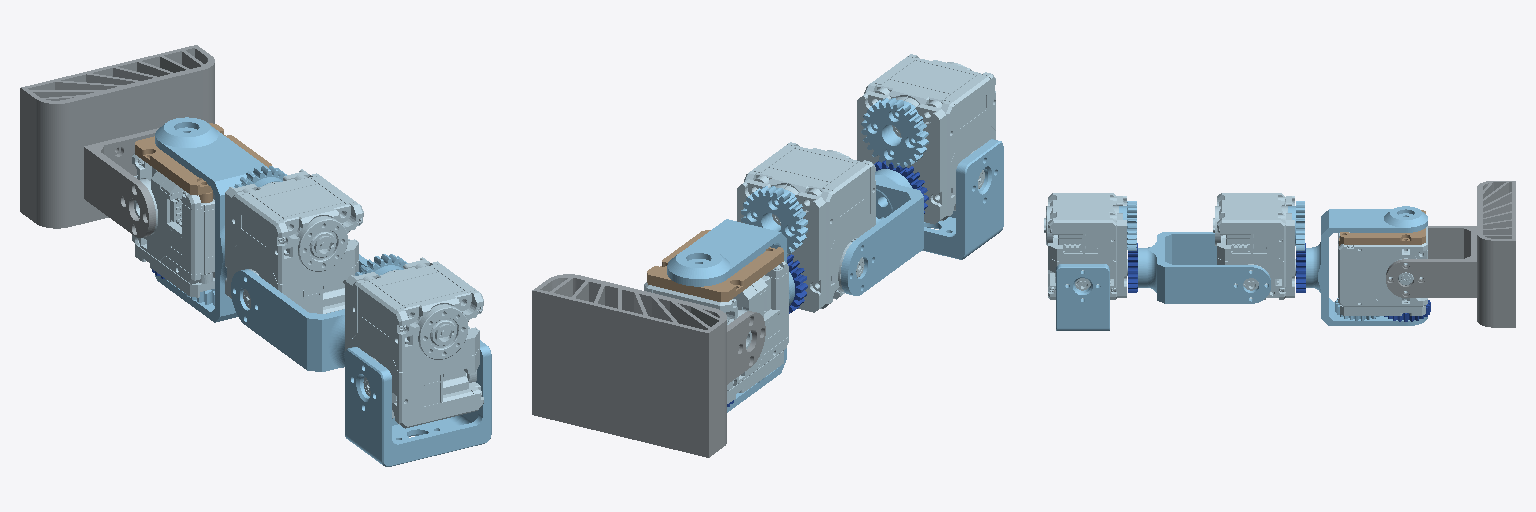
The robot description file, URDF, robot "left_arm_umi":
<?xml version="1.0" ?><robot name="left_arm_umi">  
  <link name="sho_pitch_link">    
    <visual>      
      <origin xyz="0 0 0" rpy="0 -0 0"/>      
      <geometry>        
        <mesh filename="package:///meshes/left_sho_pitch_link_visual.stl"/>        
      </geometry>      
      <material name="sho_pitch_link_material">        
        <color rgba="0.61568627450980395466 0.81176470588235294379 0.92941176470588227065 1.0"/>        
      </material>      
    </visual>    
    <collision>      
      <origin xyz="0 0 0" rpy="0 -0 0"/>      
      <geometry>        
        <mesh filename="package:///meshes/left_sho_pitch_link_collision.stl"/>        
      </geometry>      
    </collision>    
    <inertial>      
      <origin xyz="-1.025903438159899119e-18 -2.1966078074444220184e-18 0.012913250798677602602" rpy="0 0 0"/>      
      <mass value="0.0085999999999999982708"/>      
      <inertia ixx="1.8365636406635814379e-06" ixy="0" ixz="0" iyy="4.0110869076839152165e-06" iyz="0" izz="3.5160516450492493809e-06"/>      
    </inertial>    
  </link>  

  <link name="2xl430_gears">    
    <visual>      
      <origin xyz="0 0 0" rpy="0 -0 0"/>      
      <geometry>        
        <mesh filename="package:///meshes/left_2xl430_gears_visual.stl"/>        
      </geometry>      
      <material name="2xl430_gears_material">        
        <color rgba="0.75914767920569214965 0.85560384745670925444 0.90519468321360607721 1.0"/>        
      </material>      
    </visual>    
    <collision>      
      <origin xyz="0 0 0" rpy="0 -0 0"/>      
      <geometry>        
        <mesh filename="package:///meshes/left_2xl430_gears_collision.stl"/>        
      </geometry>      
    </collision>    
    <inertial>      
      <origin xyz="-0.011592905737980642444 -0.0024238553642583816373 -0.018551095523802015735" rpy="0 0 0"/>      
      <mass value="0.11800003674524911501"/>      
      <inertia ixx="2.7511021050428206944e-05" ixy="9.0043904315036704004e-07" ixz="-2.3349710124172453411e-08" iyy="3.2796197843345624423e-05" iyz="-6.5715119654599577247e-07" izz="3.5775739835744996948e-05"/>      
    </inertial>    
  </link>  

  <link name="spur_1m_24t_drive">    
    <visual>      
      <origin xyz="0 0 0" rpy="0 -0 0"/>      
      <geometry>        
        <mesh filename="package:///meshes/left_spur_1m_24t_drive_visual.stl"/>        
      </geometry>      
      <material name="spur_1m_24t_drive_material">        
        <color rgba="0.61568627450980395466 0.81176470588235294379 0.92941176470588238168 1.0"/>        
      </material>      
    </visual>    
    <collision>      
      <origin xyz="0 0 0" rpy="0 -0 0"/>      
      <geometry>        
        <mesh filename="package:///meshes/left_spur_1m_24t_drive_collision.stl"/>        
      </geometry>      
    </collision>    
    <inertial>      
      <origin xyz="3.0395421551447426547e-15 -3.3912620813973872492e-16 0.0048096451474093065287" rpy="0 0 0"/>      
      <mass value="0.0031999999999999997197"/>      
      <inertia ixx="1.4097598887016953379e-07" ixy="1.5562823114943523235e-15" ixz="7.4273784759770902112e-37" iyy="1.4097598803635996198e-07" iyz="7.8038995636436382948e-37" izz="2.4107776386988835496e-07"/>      
    </inertial>    
  </link>  

  <joint name="left_sho_yaw_drive" type="revolute">    
    <origin xyz="-0.024000000716142534662 -0.019000000152456227726 -0.019000000152442717699" rpy="1.5707963267945506125 -5.5729871745090160275e-14 6.2805146429461445464e-14"/>    
    <parent link="2xl430_gears"/>    
    <child link="spur_1m_24t_drive"/>    
    <axis xyz="0 0 1"/>    
    <limit effort="1" velocity="20" lower="-2.6179938779914944114" upper="2.6179938779914944114"/>    
    <joint_properties friction="0.0"/>    
  </joint>  

  <link name="spur_1m_24t_driven">    
    <visual>      
      <origin xyz="0 0 0" rpy="0 -0 0"/>      
      <geometry>        
        <mesh filename="package:///meshes/left_spur_1m_24t_driven_visual.stl"/>        
      </geometry>      
      <material name="spur_1m_24t_driven_material">        
        <color rgba="0.23137254901960788156 0.38039215686274502337 0.7058823529411765163 1.0"/>        
      </material>      
    </visual>    
    <collision>      
      <origin xyz="0 0 0" rpy="0 -0 0"/>      
      <geometry>        
        <mesh filename="package:///meshes/left_spur_1m_24t_driven_collision.stl"/>        
      </geometry>      
    </collision>    
    <inertial>      
      <origin xyz="-2.6903043908340867984e-18 -1.688384205958136519e-15 -0.00097237500038395777158" rpy="0 0 0"/>      
      <mass value="0.0026999999999999997093"/>      
      <inertia ixx="1.2202334915684080498e-07" ixy="1.3837295890494949211e-37" ixz="-1.0447421496749939075e-36" iyy="1.2202334915684064616e-07" iyz="3.3220397498769138301e-37" izz="2.3180293204341252239e-07"/>      
    </inertial>    
  </link>  

  <link name="sho_yaw_link">    
    <visual>      
      <origin xyz="0 0 0" rpy="0 -0 0"/>      
      <geometry>        
        <mesh filename="package:///meshes/left_sho_yaw_link_visual.stl"/>        
      </geometry>      
      <material name="sho_yaw_link_material">        
        <color rgba="0.61568627450980395466 0.81176470588235294379 0.92941176470588238168 1.0"/>        
      </material>      
    </visual>    
    <collision>      
      <origin xyz="0 0 0" rpy="0 -0 0"/>      
      <geometry>        
        <mesh filename="package:///meshes/left_sho_yaw_link_collision.stl"/>        
      </geometry>      
    </collision>    
    <inertial>      
      <origin xyz="-4.7730210054629770351e-18 2.6069328434163573568e-18 -0.024649285094360089132" rpy="0 0 0"/>      
      <mass value="0.014500000000000007674"/>      
      <inertia ixx="9.2365904614004439553e-06" ixy="3.5862833440690451918e-13" ixz="-8.2397007242855601464e-43" iyy="5.8163826335078791714e-06" iyz="-5.4352775587714288989e-35" izz="4.5074356741562122031e-06"/>      
    </inertial>    
  </link>  

  <link name="2xl430_gears_2">    
    <visual>      
      <origin xyz="0 0 0" rpy="0 -0 0"/>      
      <geometry>        
        <mesh filename="package:///meshes/left_2xl430_gears_2_visual.stl"/>        
      </geometry>      
      <material name="2xl430_gears_2_material">        
        <color rgba="0.75914767920569214965 0.85560384745670925444 0.90519468321360607721 1.0"/>        
      </material>      
    </visual>    
    <collision>      
      <origin xyz="0 0 0" rpy="0 -0 0"/>      
      <geometry>        
        <mesh filename="package:///meshes/left_2xl430_gears_2_collision.stl"/>        
      </geometry>      
    </collision>    
    <inertial>      
      <origin xyz="-0.011592905737981091738 -0.0024238553642542742458 -0.018551095523813909" rpy="0 0 0"/>      
      <mass value="0.11800003674524911501"/>      
      <inertia ixx="2.751102105042832214e-05" ixy="9.0043904315329650349e-07" ixz="-2.3349710125436329138e-08" iyy="3.2796197843348145193e-05" iyz="-6.5715119655126410565e-07" izz="3.5775739835745051158e-05"/>      
    </inertial>    
  </link>  

  <link name="spur_1m_24t_drive_2">    
    <visual>      
      <origin xyz="0 0 0" rpy="0 -0 0"/>      
      <geometry>        
        <mesh filename="package:///meshes/left_spur_1m_24t_drive_2_visual.stl"/>        
      </geometry>      
      <material name="spur_1m_24t_drive_2_material">        
        <color rgba="0.61568627450980395466 0.81176470588235294379 0.92941176470588238168 1.0"/>        
      </material>      
    </visual>    
    <collision>      
      <origin xyz="0 0 0" rpy="0 -0 0"/>      
      <geometry>        
        <mesh filename="package:///meshes/left_spur_1m_24t_drive_2_collision.stl"/>        
      </geometry>      
    </collision>    
    <inertial>      
      <origin xyz="3.0395421551447426547e-15 -3.3912620811388947869e-16 0.0048096451474092995898" rpy="0 0 0"/>      
      <mass value="0.0031999999999999997197"/>      
      <inertia ixx="1.4097598887016953379e-07" ixy="1.5562823102285579479e-15" ixz="2.9661020669666376683e-36" iyy="1.4097598803635998845e-07" iyz="9.1368612700525381613e-36" izz="2.4107776386988835496e-07"/>      
    </inertial>    
  </link>  

  <joint name="left_elbow_yaw_drive" type="revolute">    
    <origin xyz="-0.024000000716140806878 -0.019000000152450138846 -0.01900000015246447807" rpy="1.5707963267949478503 -2.5802640142449200815e-13 5.2180482157376444099e-14"/>    
    <parent link="2xl430_gears_2"/>    
    <child link="spur_1m_24t_drive_2"/>    
    <axis xyz="0 0 1"/>    
    <limit effort="1" velocity="20" lower="-2.6179938779914944114" upper="2.6179938779914944114"/>    
    <joint_properties friction="0.0"/>    
  </joint>  

  <link name="spur_1m_24t_driven_2">    
    <visual>      
      <origin xyz="0 0 0" rpy="0 -0 0"/>      
      <geometry>        
        <mesh filename="package:///meshes/left_spur_1m_24t_driven_2_visual.stl"/>        
      </geometry>      
      <material name="spur_1m_24t_driven_2_material">        
        <color rgba="0.23137254901960788156 0.38039215686274502337 0.7058823529411765163 1.0"/>        
      </material>      
    </visual>    
    <collision>      
      <origin xyz="0 0 0" rpy="0 -0 0"/>      
      <geometry>        
        <mesh filename="package:///meshes/left_spur_1m_24t_driven_2_collision.stl"/>        
      </geometry>      
    </collision>    
    <inertial>      
      <origin xyz="-2.6903043908350131707e-18 -1.685153565132015999e-15 -0.00097237500038395083268" rpy="0 0 0"/>      
      <mass value="0.0026999999999999997093"/>      
      <inertia ixx="1.2202334915684080498e-07" ixy="-5.3426136268858280334e-65" ixz="-2.7609150325300431337e-36" iyy="1.2202334915684064616e-07" iyz="5.8515286657488347587e-36" izz="2.3180293204341252239e-07"/>      
    </inertial>    
  </link>  

  <link name="elb_yaw_link">    
    <visual>      
      <origin xyz="0 0 0" rpy="0 -0 0"/>      
      <geometry>        
        <mesh filename="package:///meshes/left_elb_yaw_link_visual.stl"/>        
      </geometry>      
      <material name="elb_yaw_link_material">        
        <color rgba="0.61568627450980395466 0.81176470588235294379 0.92941176470588227065 1.0"/>        
      </material>      
    </visual>    
    <collision>      
      <origin xyz="0 0 0" rpy="0 -0 0"/>      
      <geometry>        
        <mesh filename="package:///meshes/left_elb_yaw_link_collision.stl"/>        
      </geometry>      
    </collision>    
    <inertial>      
      <origin xyz="5.3127688027774929136e-08 0.0019833638641961618201 -0.023416643551549959357" rpy="0 0 0"/>      
      <mass value="0.017500000000000005135"/>      
      <inertia ixx="1.4134344903109199776e-05" ixy="1.6945783922006120707e-12" ixz="-1.1286398721833143996e-11" iyy="6.6435900776211374285e-06" iyz="1.0545227077253055462e-06" izz="8.9925290757999027595e-06"/>      
    </inertial>    
  </link>  

  <link name="spur_1m_24t_driven_3">    
    <visual>      
      <origin xyz="0 0 0" rpy="0 -0 0"/>      
      <geometry>        
        <mesh filename="package:///meshes/left_spur_1m_24t_driven_3_visual.stl"/>        
      </geometry>      
      <material name="spur_1m_24t_driven_3_material">        
        <color rgba="0.23137254901960788156 0.38039215686274502337 0.7058823529411765163 1.0"/>        
      </material>      
    </visual>    
    <collision>      
      <origin xyz="0 0 0" rpy="0 -0 0"/>      
      <geometry>        
        <mesh filename="package:///meshes/left_spur_1m_24t_driven_3_collision.stl"/>        
      </geometry>      
    </collision>    
    <inertial>      
      <origin xyz="-2.6903043908334539378e-18 -1.6883842059581396744e-15 -0.0025723750003839550293" rpy="0 0 0"/>      
      <mass value="0.0026999999999999997093"/>      
      <inertia ixx="1.2202334915684080498e-07" ixy="1.650838217124924475e-37" ixz="5.8515286657488347587e-36" iyy="1.2202334915684064616e-07" iyz="0" izz="2.3180293204341252239e-07"/>      
    </inertial>    
  </link>  

  <link name="2xl430_gears_3">    
    <visual>      
      <origin xyz="0 0 0" rpy="0 -0 0"/>      
      <geometry>        
        <mesh filename="package:///meshes/left_2xl430_gears_3_visual.stl"/>        
      </geometry>      
      <material name="2xl430_gears_3_material">        
        <color rgba="0.75914767920569214965 0.85560384745670925444 0.90519468321360607721 1.0"/>        
      </material>      
    </visual>    
    <collision>      
      <origin xyz="0 0 0" rpy="0 -0 0"/>      
      <geometry>        
        <mesh filename="package:///meshes/left_2xl430_gears_3_collision.stl"/>        
      </geometry>      
    </collision>    
    <inertial>      
      <origin xyz="0.00044890447619909743101 0.011592905379898219356 -0.024576144788197168412" rpy="0 0 0"/>      
      <mass value="0.11800003674524911501"/>      
      <inertia ixx="3.5775739835742089931e-05" ixy="2.3349710123834755271e-08" ixz="6.5715119654965728415e-07" iyy="2.7511021050427807144e-05" iyz="9.0043904315220340747e-07" izz="3.2796197843345726067e-05"/>      
    </inertial>    
  </link>  

  <link name="spur_1m_24t_drive_3">    
    <visual>      
      <origin xyz="0 0 0" rpy="0 -0 0"/>      
      <geometry>        
        <mesh filename="package:///meshes/left_spur_1m_24t_drive_3_visual.stl"/>        
      </geometry>      
      <material name="spur_1m_24t_drive_3_material">        
        <color rgba="0.61568627450980395466 0.81176470588235294379 0.92941176470588238168 1.0"/>        
      </material>      
    </visual>    
    <collision>      
      <origin xyz="0 0 0" rpy="0 -0 0"/>      
      <geometry>        
        <mesh filename="package:///meshes/left_spur_1m_24t_drive_3_collision.stl"/>        
      </geometry>      
    </collision>    
    <inertial>      
      <origin xyz="3.0326032612408350319e-15 -3.3912620811388928147e-16 0.0048096451474093030592" rpy="0 0 0"/>      
      <mass value="0.0031999999999999997197"/>      
      <inertia ixx="1.4097598887016953379e-07" ixy="1.5562823135372803981e-15" ixz="1.2722418906858421266e-35" iyy="1.4097598803635998845e-07" iyz="4.1397718535750480265e-37" izz="2.4107776386988835496e-07"/>      
    </inertial>    
  </link>  

  <joint name="left_wrist_pitch_drive" type="revolute">    
    <origin xyz="-1.5244492967147879128e-10 0.024000000358059658812 -0.0080000000000056449567" rpy="-3.0533404903795228175e-14 -1.7699329119283895979e-13 -1.5707963267949680564"/>    
    <parent link="2xl430_gears_3"/>    
    <child link="spur_1m_24t_drive_3"/>    
    <axis xyz="0 0 1"/>    
    <limit effort="1" velocity="20" lower="-1.9198621771937625091" upper="1.3962634015954635824"/>    
    <joint_properties friction="0.0"/>    
  </joint>  

  <link name="hand">    
    <visual>      
      <origin xyz="0 0 0" rpy="0 -0 0"/>      
      <geometry>        
        <mesh filename="package:///meshes/left_hand_visual.stl"/>        
      </geometry>      
      <material name="hand_material">        
        <color rgba="0.6414991312980887761 0.67624720774385704836 0.69709605361131787848 1.0"/>        
      </material>      
    </visual>    
    <collision>      
      <origin xyz="0 0 0" rpy="0 -0 0"/>      
      <geometry>        
        <mesh filename="package:///meshes/left_hand_collision.stl"/>        
      </geometry>      
    </collision>    
    <inertial>      
      <origin xyz="0.0037132560743682414481 -0.042135580180293757957 -0.019513129422372377242" rpy="0 0 0"/>      
      <mass value="0.039500000000000000389"/>      
      <inertia ixx="2.4655505305535776886e-05" ixy="6.2292690516533964304e-07" ixz="1.3905202790272152079e-08" iyy="2.5499495709674505013e-05" iyz="-4.0482284361498457642e-08" izz="1.3476712281039049114e-05"/>      
    </inertial>    
  </link>  

  <joint name="left_wrist_roll" type="revolute">    
    <origin xyz="0.019000000000009276829 -3.5808436771311846769e-10 -0.027000000152447547336" rpy="1.2196020852255911422e-29 1.5707963267946087882 0"/>    
    <parent link="2xl430_gears_3"/>    
    <child link="hand"/>    
    <axis xyz="0 0 1"/>    
    <limit effort="1" velocity="20" lower="-1.9198621771937625091" upper="1.3962634015954635824"/>    
    <joint_properties friction="0.0"/>    
  </joint>  

  <link name="wrist_bearing_plate">    
    <visual>      
      <origin xyz="0 0 0" rpy="0 -0 0"/>      
      <geometry>        
        <mesh filename="package:///meshes/left_wrist_bearing_plate_visual.stl"/>        
      </geometry>      
      <material name="wrist_bearing_plate_material">        
        <color rgba="0.71932243125689054875 0.63128434304969727187 0.52422389360984933404 1.0"/>        
      </material>      
    </visual>    
    <collision>      
      <origin xyz="0 0 0" rpy="0 -0 0"/>      
      <geometry>        
        <mesh filename="package:///meshes/left_wrist_bearing_plate_collision.stl"/>        
      </geometry>      
    </collision>    
    <inertial>      
      <origin xyz="-0.0075835583121499931455 -0.015499999999999977338 -0.0018386323705903331437" rpy="0 0 0"/>      
      <mass value="0.0049000367468305557062"/>      
      <inertia ixx="4.970743010915013972e-07" ixy="1.1194558104431275937e-22" ixz="1.8100904820813988926e-08" iyy="7.1268523603538489532e-07" iyz="1.6072883979218723091e-23" izz="1.1919657811600100764e-06"/>      
    </inertial>    
  </link>  

  <joint name="left_wrist_pitch_fixed" type="fixed">    
    <origin xyz="0.015500000000005004566 -1.8207657603852567263e-14 -0.044999999999998596678" rpy="4.0494715863782802008e-14 -2.8209346585231002385e-13 -1.570796326794906328"/>    
    <parent link="2xl430_gears_3"/>    
    <child link="wrist_bearing_plate"/>    
    <axis xyz="0 0 1"/>    
    <limit effort="1" velocity="20"/>    
    <joint_properties friction="0.0"/>    
  </joint>  

  <joint name="left_wrist_pitch_driven" type="revolute">    
    <origin xyz="0 -3.9443045261050590271e-30 -0.0015999999999999972577" rpy="6.0387003530043805309e-16 -4.4981039962148287683e-16 -1.570796326794896558"/>    
    <parent link="spur_1m_24t_driven_3"/>    
    <child link="2xl430_gears_3"/>    
    <axis xyz="0 0 1"/>    
    <limit effort="1" velocity="20" lower="-1.3962634015954635824" upper="1.9198621771937625091"/>    
    <joint_properties friction="0.0"/>    
  </joint>  

  <joint name="left_wrist_roll_fixed" type="fixed">    
    <origin xyz="1.5777218104420236108e-30 -0.025300000000000006511 -0.05200000000000001843" rpy="1.5707963267949043296 -1.5707963267948885644 0"/>    
    <parent link="elb_yaw_link"/>    
    <child link="spur_1m_24t_driven_3"/>    
    <axis xyz="0 0 1"/>    
    <limit effort="1" velocity="20"/>    
    <joint_properties friction="0.0"/>    
  </joint>  

  <joint name="left_elbow_yaw_fixed" type="fixed">    
    <origin xyz="-1.5777218104420236108e-30 0 0.0016000000000000041966" rpy="-3.1415926535897873428 3.0591810185765374017e-29 0"/>    
    <parent link="spur_1m_24t_driven_2"/>    
    <child link="elb_yaw_link"/>    
    <axis xyz="0 0 1"/>    
    <limit effort="1" velocity="20"/>    
    <joint_properties friction="0.0"/>    
  </joint>  

  <joint name="left_elbow_yaw_driven" type="revolute">    
    <origin xyz="-3.5806251019732115992e-10 -0.027000000152458583647 -0.019000000000009956841" rpy="1.5707963267948450437 1.5707963267948292785 0"/>    
    <parent link="2xl430_gears_2"/>    
    <child link="spur_1m_24t_driven_2"/>    
    <axis xyz="0 0 1"/>    
    <limit effort="1" velocity="20" lower="-2.6179938779914944114" upper="2.6179938779914944114"/>    
    <joint_properties friction="0.0"/>    
  </joint>  

  <joint name="left_elbow_roll" type="revolute">    
    <origin xyz="-3.4694469519536141888e-18 -0.018999999999999999528 -0.059000000000000024647" rpy="1.570796326794896336 -5.3290705182069808708e-14 -2.456539448233997185e-14"/>    
    <parent link="sho_yaw_link"/>    
    <child link="2xl430_gears_2"/>    
    <axis xyz="0 0 1"/>    
    <limit effort="1" velocity="20" lower="-1.9198621771937625091" upper="2.4434609527920612138"/>    
    <joint_properties friction="0.0"/>    
  </joint>  

  <joint name="left_sho_yaw_fixed" type="fixed">    
    <origin xyz="3.4694469519536141888e-18 -9.8607613152626475676e-31 0.0015999999999999972577" rpy="3.141592653589793116 1.2621774483536197294e-29 4.7331654313260743357e-30"/>    
    <parent link="spur_1m_24t_driven"/>    
    <child link="sho_yaw_link"/>    
    <axis xyz="0 0 1"/>    
    <limit effort="1" velocity="20"/>    
    <joint_properties friction="0.0"/>    
  </joint>  

  <joint name="left_sho_yaw_driven" type="revolute">    
    <origin xyz="-3.5807158627054747058e-10 -0.02700000015245348009 -0.018999999999996589062" rpy="1.5707963267947120389 -1.3118271136488182808e-14 9.2981178312429448086e-14"/>    
    <parent link="2xl430_gears"/>    
    <child link="spur_1m_24t_driven"/>    
    <axis xyz="0 0 1"/>    
    <limit effort="1" velocity="20" lower="-2.6179938779914944114" upper="2.6179938779914944114"/>    
    <joint_properties friction="0.0"/>    
  </joint>  

  <joint name="left_sho_roll" type="revolute">    
    <origin xyz="-0.019000000000000016875 1.4231671397091401999e-17 0.027000000000000023981" rpy="-3.141592653589793116 1.5707963267948372721 0"/>    
    <parent link="sho_pitch_link"/>    
    <child link="2xl430_gears"/>    
    <axis xyz="0 0 1"/>    
    <limit effort="1" velocity="20" lower="-1.570796326794896558" upper="0.34906585039886589561"/>    
    <joint_properties friction="0.0"/>    
  </joint>  


</robot>

--- Render facts (derived) ---
Views: 3 orthographic renders of the robot side by side, from view 1: azimuth 30°, elevation 25°; view 2: azimuth 150°, elevation 25°; view 3: azimuth 270°, elevation 25°.
Robot: left_arm_umi — 14 links, 13 joints (9 revolute, 4 fixed); root link sho_pitch_link; default pose: every joint at zero.
Visible links, largest first — view 1: hand, 2xl430_gears, 2xl430_gears_2, sho_pitch_link, 2xl430_gears_3, elb_yaw_link, sho_yaw_link, wrist_bearing_plate, spur_1m_24t_drive, spur_1m_24t_drive_2; view 2: hand, 2xl430_gears_2, 2xl430_gears, sho_yaw_link, sho_pitch_link, elb_yaw_link, 2xl430_gears_3, spur_1m_24t_drive, wrist_bearing_plate, spur_1m_24t_drive_2, spur_1m_24t_driven_2, spur_1m_24t_driven; view 3: hand, sho_yaw_link, 2xl430_gears_2, 2xl430_gears, 2xl430_gears_3, elb_yaw_link, sho_pitch_link, wrist_bearing_plate, spur_1m_24t_drive, spur_1m_24t_drive_2.
Link boxes in pixels (x1,y1,x2,y2): hand: (20,45,214,237); 2xl430_gears: (345,257,483,428); 2xl430_gears_2: (225,169,363,313); sho_pitch_link: (345,340,491,466); 2xl430_gears_3: (132,153,214,297); elb_yaw_link: (155,117,267,322); sho_yaw_link: (231,254,367,371); wrist_bearing_plate: (135,123,271,202); spur_1m_24t_drive: (355,254,407,275); spur_1m_24t_drive_2: (234,166,286,187); hand: (532,274,765,457); 2xl430_gears_2: (737,142,875,312); 2xl430_gears: (857,54,995,224); sho_yaw_link: (841,169,923,295); sho_pitch_link: (922,139,1003,259); elb_yaw_link: (667,219,794,412); 2xl430_gears_3: (644,261,788,403); spur_1m_24t_drive: (861,98,928,167); wrist_bearing_plate: (647,230,783,301); spur_1m_24t_drive_2: (741,186,807,253); spur_1m_24t_driven_2: (787,254,807,313); spur_1m_24t_driven: (874,160,928,213); hand: (1386,181,1515,327); sho_yaw_link: (1138,232,1270,303); 2xl430_gears_2: (1213,193,1295,299); 2xl430_gears: (1044,193,1127,299); 2xl430_gears_3: (1338,226,1427,315); elb_yaw_link: (1306,206,1427,325); sho_pitch_link: (1056,264,1109,330); wrist_bearing_plate: (1339,210,1425,245); spur_1m_24t_drive: (1119,201,1136,250); spur_1m_24t_drive_2: (1288,201,1304,250).
Bounding box of the posed robot: 0.074 × 0.2452 × 0.0652 m (x, y, z).
14 mesh visuals loaded from 14 distinct referenced files (14 binary STL).